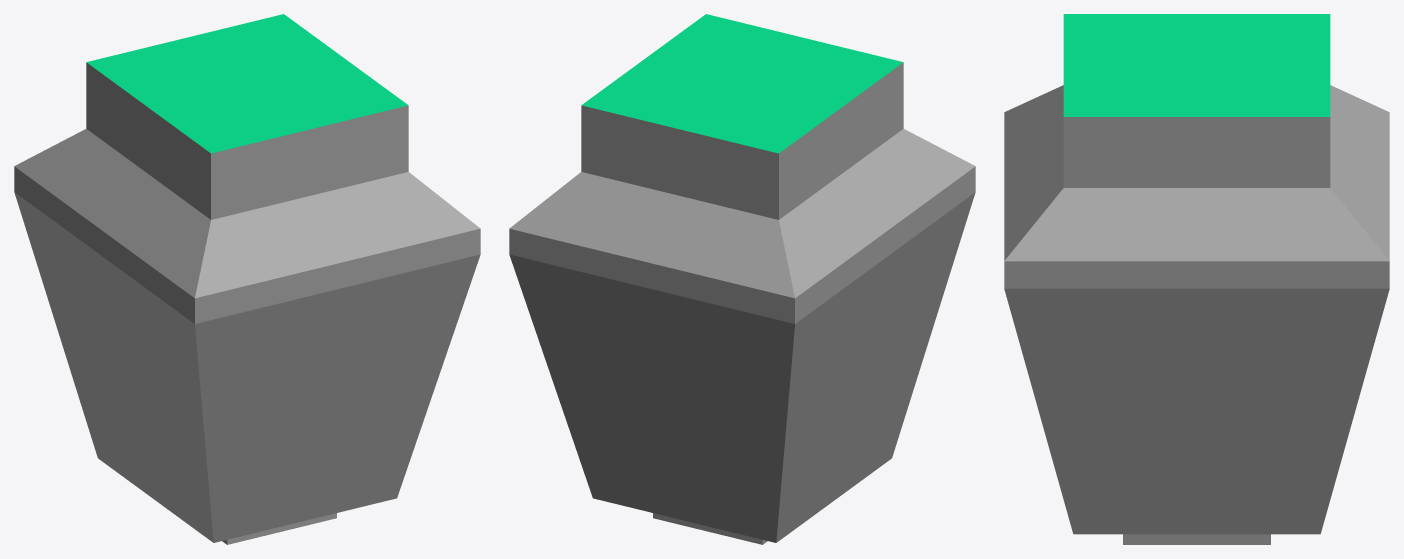
Rendered from SM_FrigateHullLower.fbx.
The picture shows the model from 3 angles, left to right: view 1: azimuth 30°, elevation 25°; view 2: azimuth 150°, elevation 25°; view 3: azimuth 270°, elevation 25°; orthographic projection. The views are drawn at different scales.
Visible parts, largest first — view 1: polySurface34; view 2: polySurface34; view 3: polySurface34.
Part boxes in pixels (x1,y1,x2,y2): polySurface34: (14, 14, 480, 544); polySurface34: (509, 14, 975, 544); polySurface34: (1004, 14, 1389, 544).
Size of the model in its own units: 837 by 1182 by 916.
